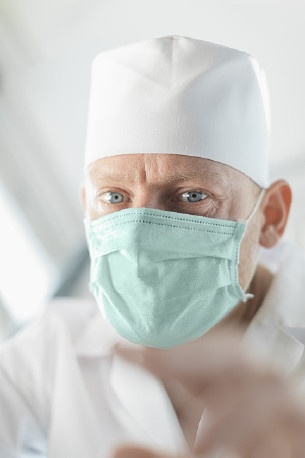Mask: (77, 168, 246, 337)
